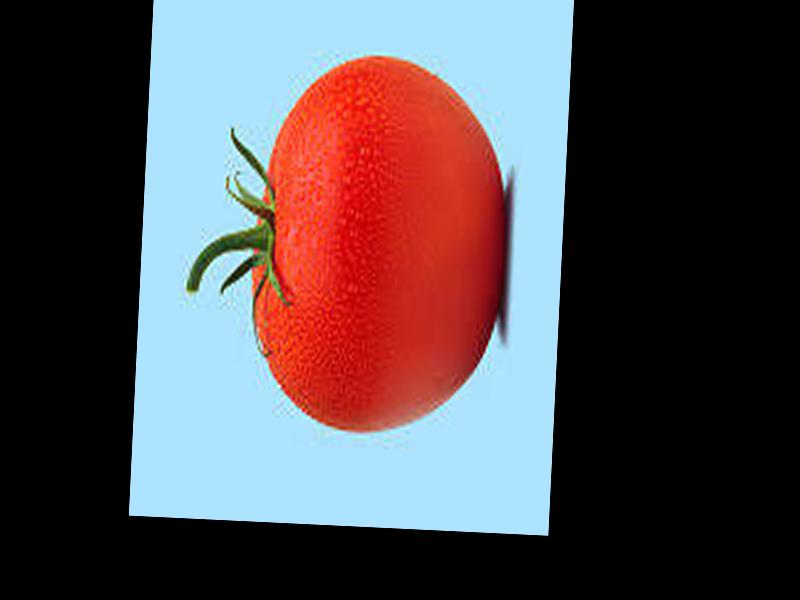Tomato: (247, 50, 509, 437)
